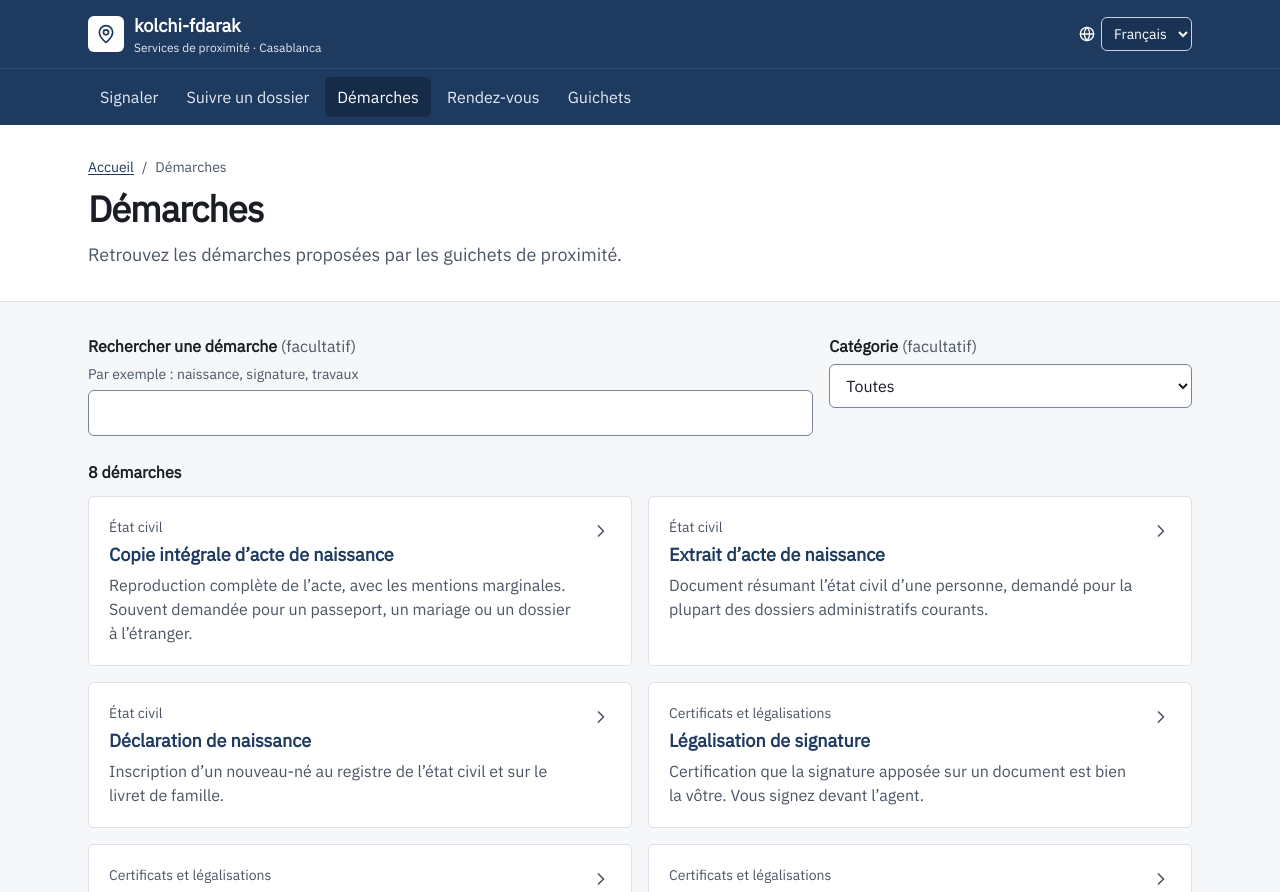
catalogue des démarches › la recherche sans accent « legalisation » trouve la légalisation
Step 1. Type "LEGALISATION" into the search field labelled "Rechercher une démarche (facultatif)" → (451, 413), box [88, 390, 813, 436]
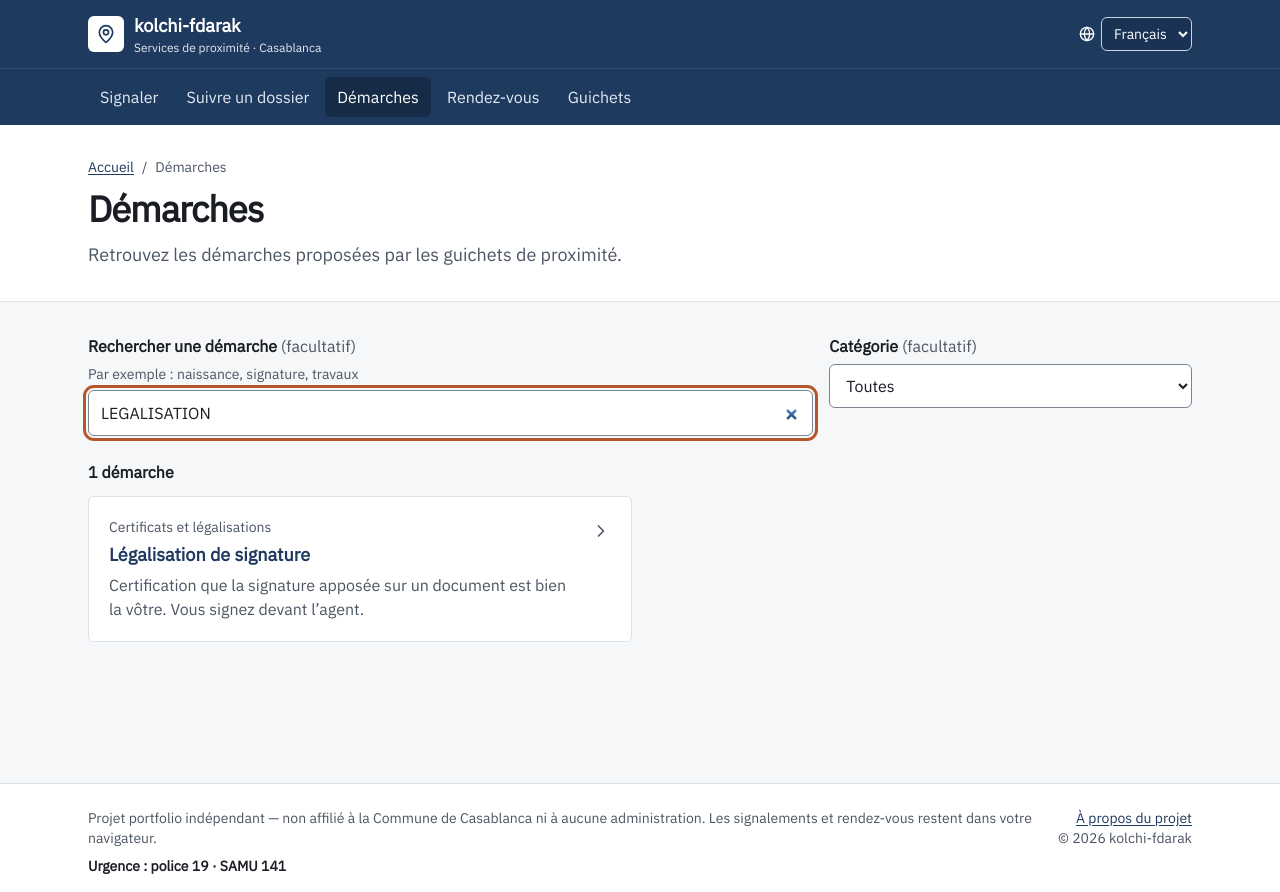
Expected: the link "Légalisation de signature" is shown, [88, 496, 632, 642]
Now the message reads "1 démarche", box [88, 462, 174, 482]
